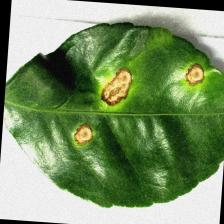canker: (68, 44, 208, 155)
